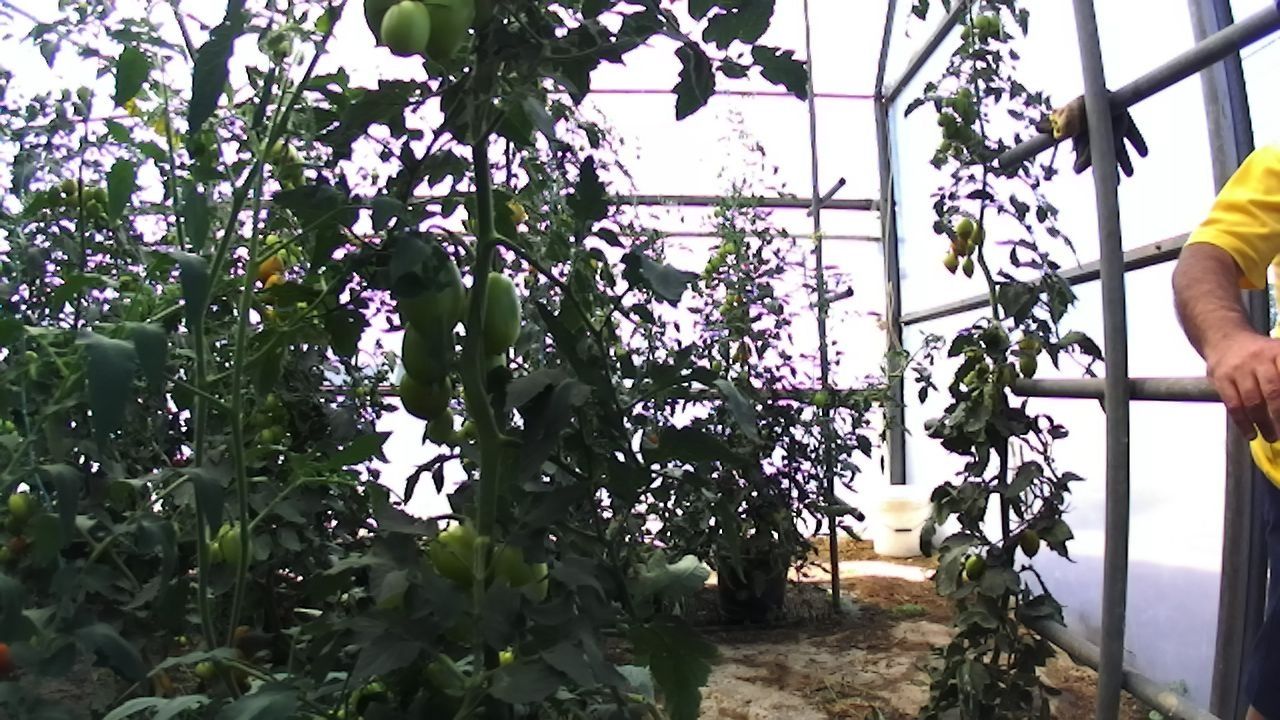tomato: (382, 237, 495, 351), (450, 259, 542, 365), (480, 521, 566, 620), (387, 299, 472, 391), (419, 512, 508, 597), (408, 0, 489, 80), (370, 0, 448, 69), (388, 361, 466, 430), (211, 512, 265, 579), (415, 398, 464, 454), (252, 129, 309, 173), (1, 483, 44, 530), (1012, 518, 1052, 568), (250, 247, 295, 286), (914, 513, 946, 562), (958, 547, 992, 586), (1013, 345, 1043, 387), (498, 194, 533, 229), (190, 655, 222, 687), (252, 388, 285, 416), (952, 214, 979, 244), (459, 413, 486, 442), (264, 418, 290, 448), (940, 248, 964, 279), (947, 93, 974, 119), (440, 424, 464, 452), (939, 116, 963, 144), (807, 388, 832, 413), (953, 120, 977, 146), (81, 197, 105, 221), (261, 228, 285, 252), (57, 175, 81, 198), (933, 108, 956, 132), (257, 424, 279, 449), (959, 255, 979, 281), (952, 81, 975, 103), (970, 10, 991, 33), (90, 185, 111, 206), (708, 355, 728, 376), (722, 240, 739, 257), (715, 301, 730, 317), (708, 254, 722, 271), (722, 292, 738, 306), (701, 261, 715, 275)
